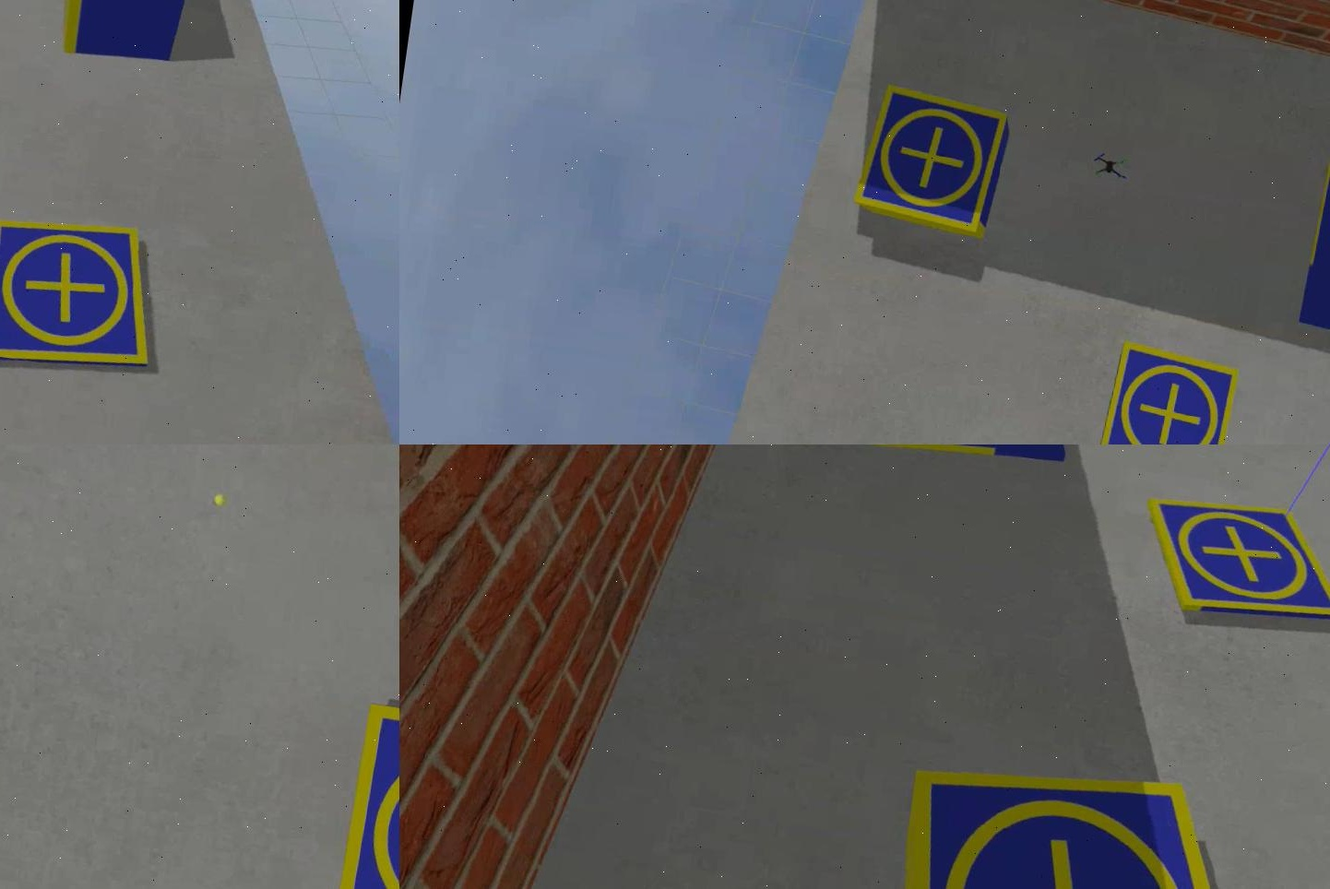small_base: (880, 743, 1278, 889), (1135, 482, 1328, 634), (0, 210, 168, 380), (851, 82, 1011, 236), (1093, 338, 1241, 445)
